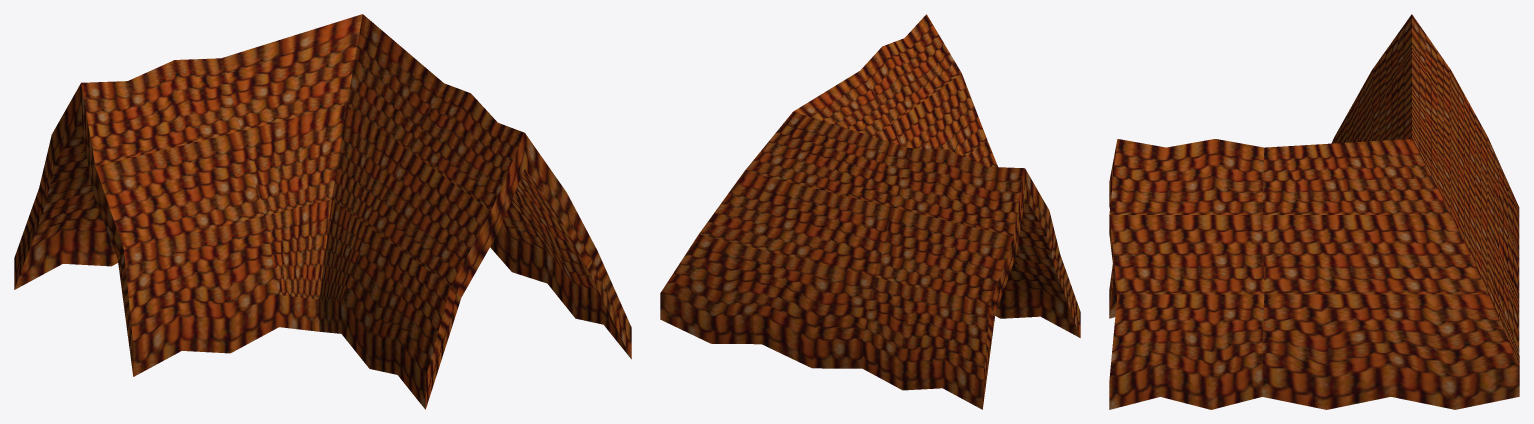
File: roof_storehouse.dae
3 views of the same model, side by side, from view 1: azimuth 30°, elevation 25°; view 2: azimuth 150°, elevation 25°; view 3: azimuth 270°, elevation 25° (orthographic). The views are drawn at different scales.
Parts seen in each view (by area): view 1: storehouse.001; view 2: storehouse.001; view 3: storehouse.001.
Part boxes in pixels (bbox=[...]): storehouse.001: bbox=[14, 14, 631, 409]; storehouse.001: bbox=[660, 14, 1080, 409]; storehouse.001: bbox=[1109, 14, 1519, 409].
Size of the model in its own units: 11.48 by 11.47 by 6.97.
